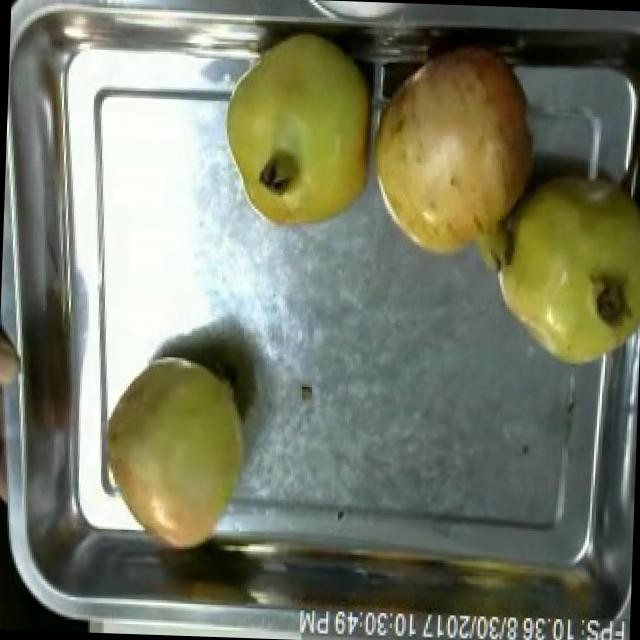fruit: (348, 28, 552, 284), (208, 21, 390, 245), (472, 149, 640, 385), (90, 342, 261, 564), (0, 306, 28, 419)
